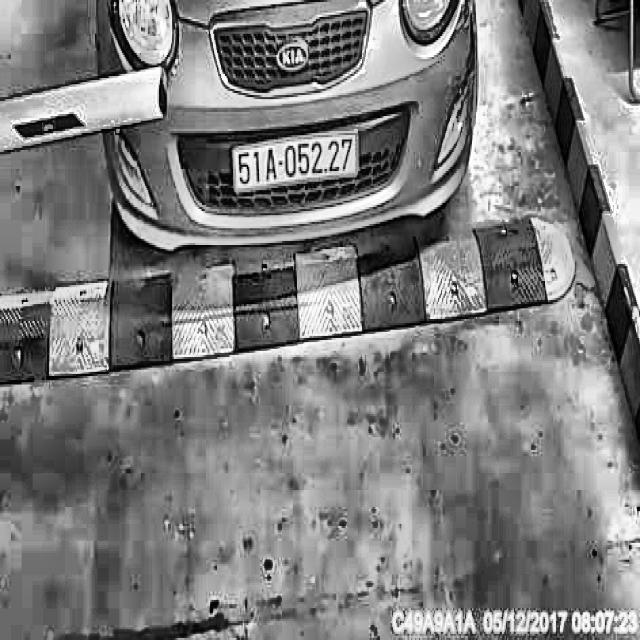plate: (228, 124, 364, 198)
